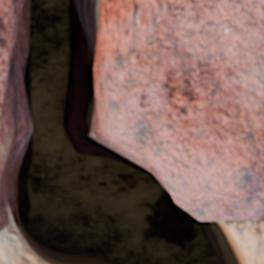broken_brick: (102, 0, 263, 223), (0, 0, 17, 180), (0, 199, 9, 233)
crack: (0, 0, 263, 263)
